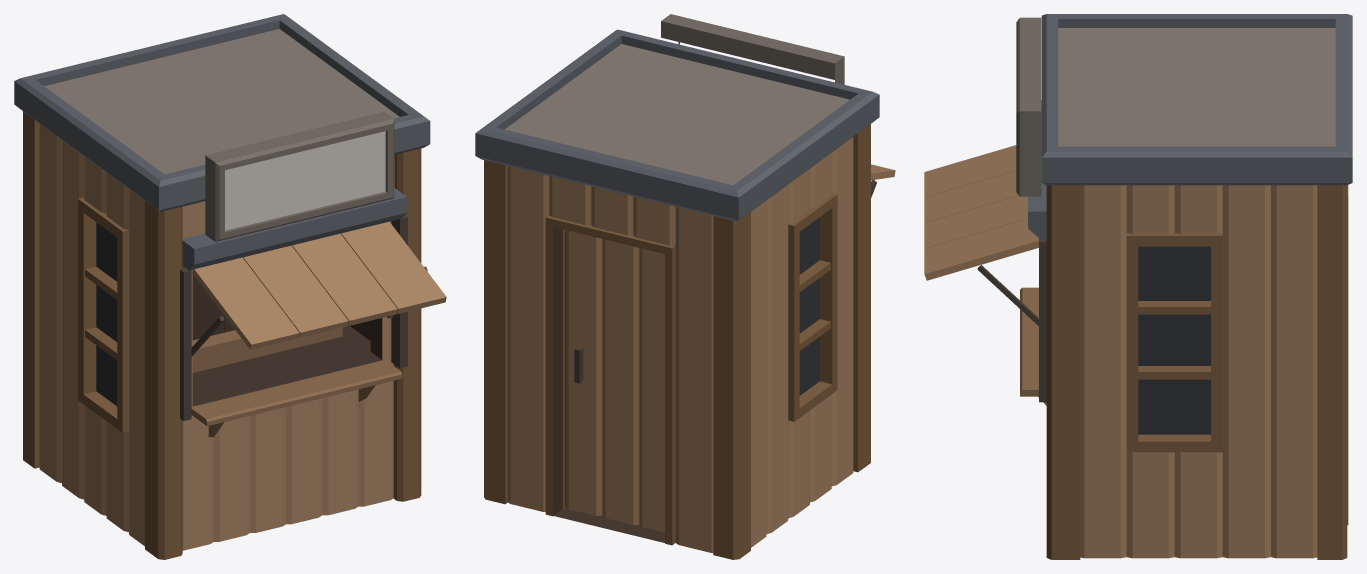
File: campus-coffee-kiosk-ec2395.glb
3 renders of one model, left to right at view 1: azimuth 30°, elevation 25°; view 2: azimuth 150°, elevation 25°; view 3: azimuth 270°, elevation 25°, orthographic. The views are drawn at different scales.
Visible parts, largest first — view 1: kiosk-shell, awning-flap-mesh, sign-face, counter-leaf-mesh, door-back-leaf; view 2: kiosk-shell, door-back-leaf; view 3: kiosk-shell, awning-flap-mesh, counter-leaf-mesh, strut-r-mesh.
Boxes of the visible parts, box(x1,y1,x2,y2) form: kiosk-shell: box(14, 14, 430, 559); awning-flap-mesh: box(192, 221, 446, 349); sign-face: box(225, 131, 385, 230); counter-leaf-mesh: box(191, 360, 402, 426); door-back-leaf: box(192, 270, 224, 340); kiosk-shell: box(475, 14, 879, 559); door-back-leaf: box(565, 230, 664, 532); kiosk-shell: box(1016, 14, 1352, 559); awning-flap-mesh: box(924, 145, 1038, 280); counter-leaf-mesh: box(1020, 287, 1038, 396); strut-r-mesh: box(977, 265, 1038, 325).
Size of the model in its own units: 2 by 2.8 by 2.55.
